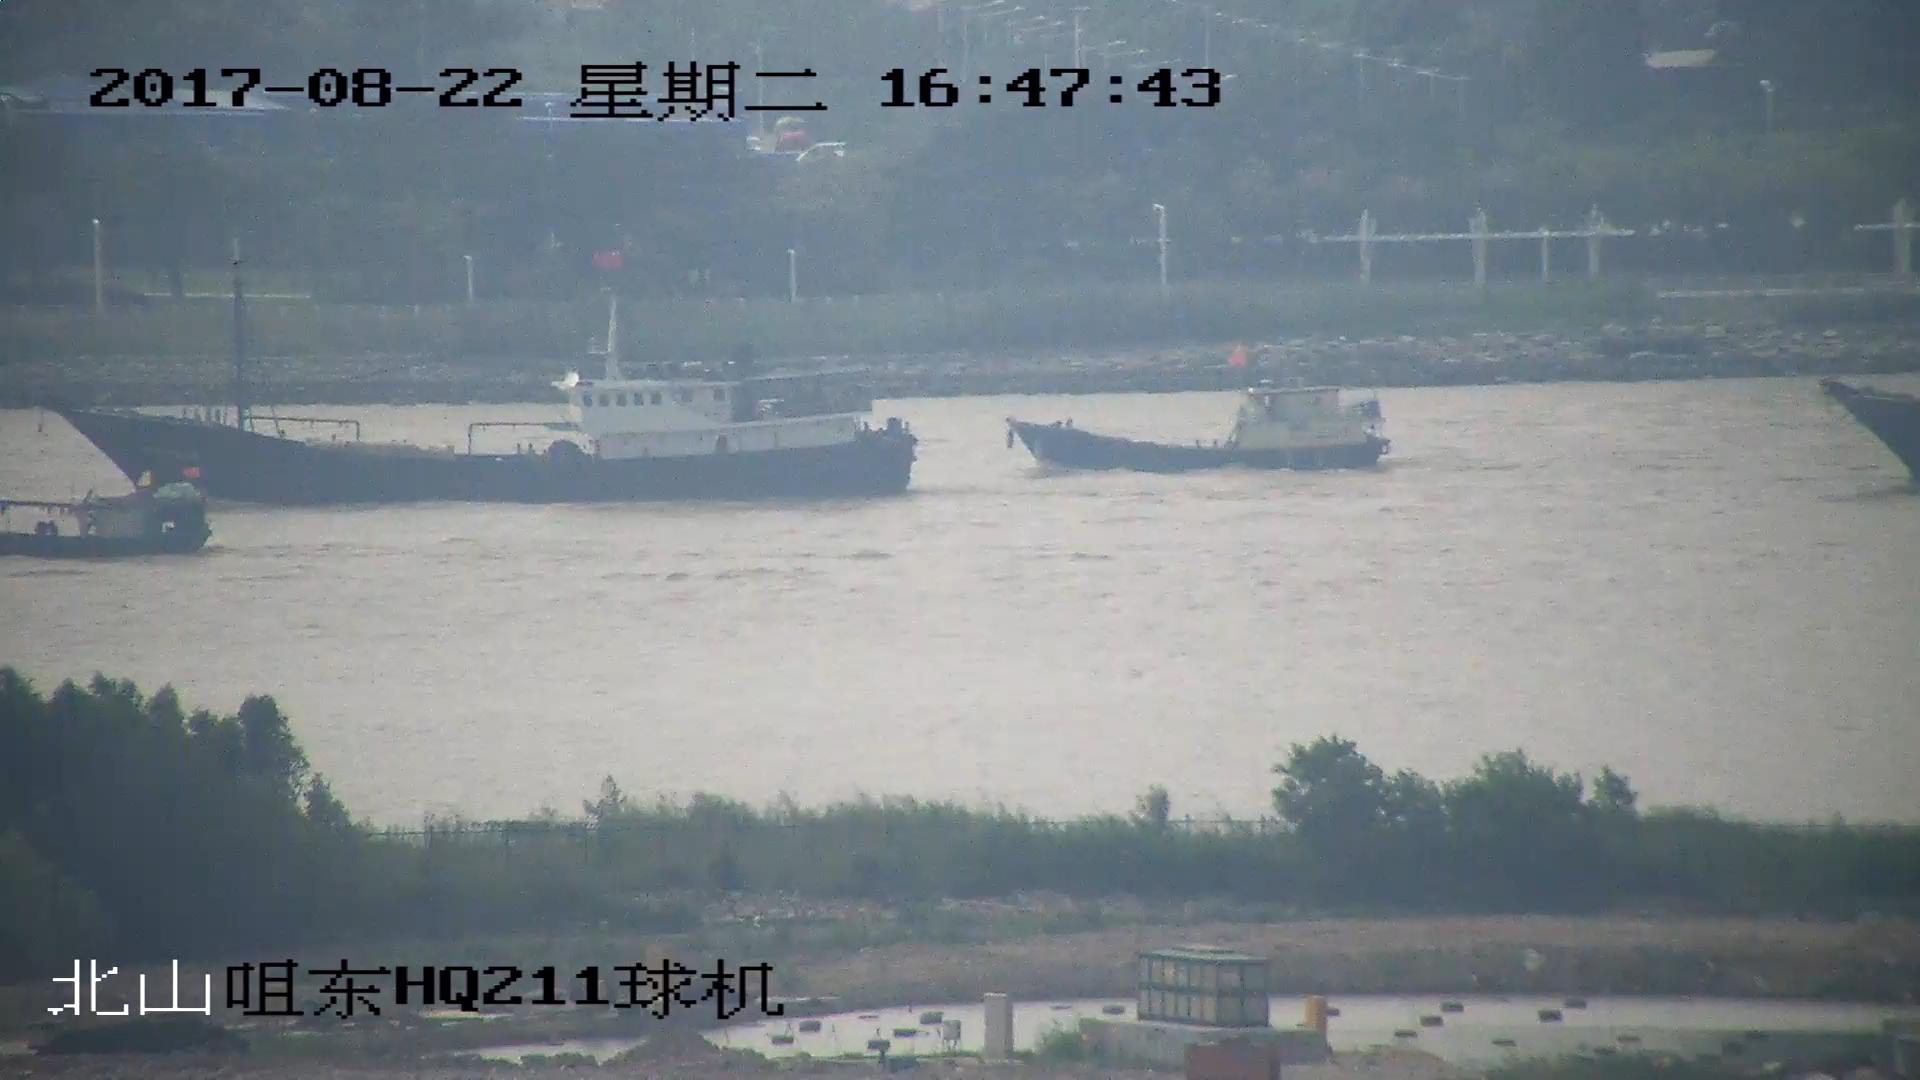fishing boat: (31, 246, 918, 507), (1016, 346, 1385, 476), (1, 470, 225, 558)
